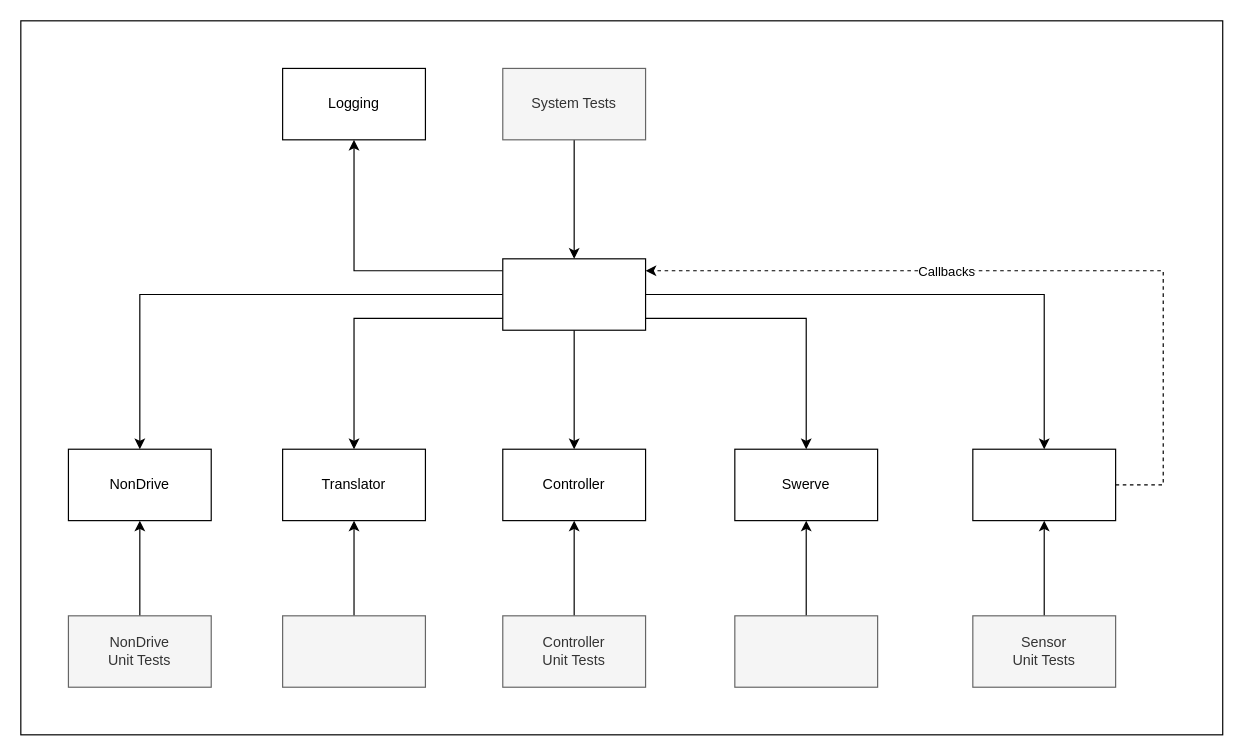
The diagram is 1244 pixels wide and 756 high, and some of its shapes have lost their labels. Here are the shapes that lost their labels. From the top down, the centre of each, then its label:
At point 574,294: "Orchestrator".
At point 1044,484: "Sensor".
At point 353,651: "Translator Unit Tests".
At point 806,651: "Swerve Unit Tests".
